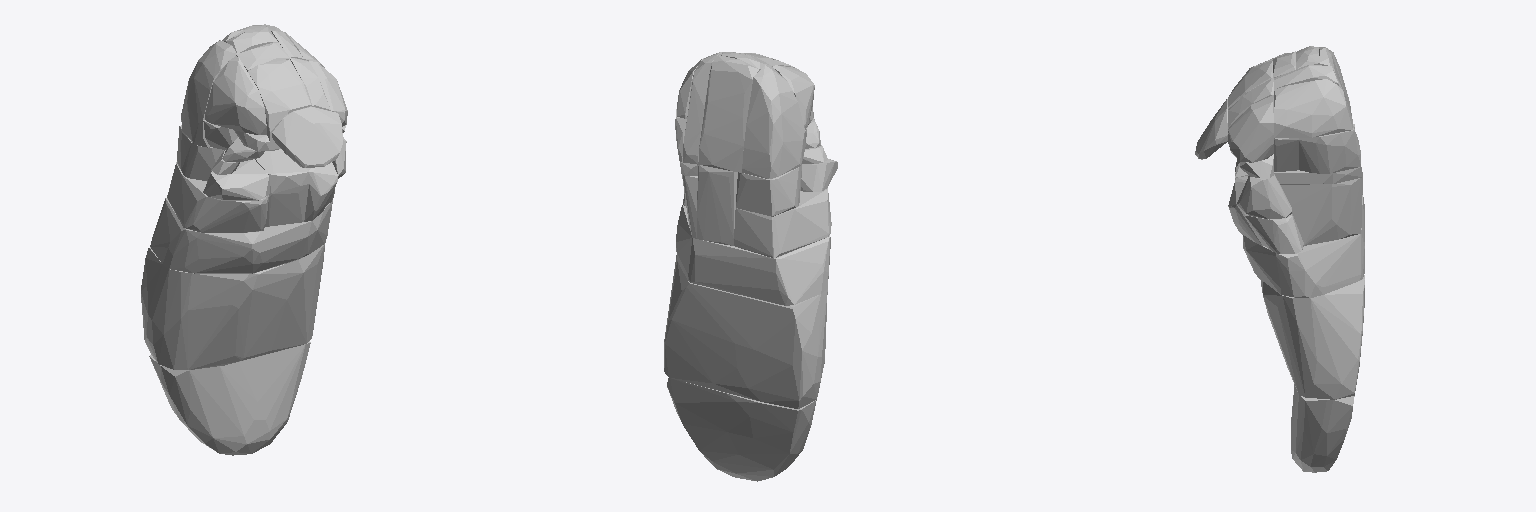
Rendered from model_TQEazKuZV1P_vhacd.obj.
The picture shows the model from 3 angles: view 1: azimuth 30°, elevation 25°; view 2: azimuth 150°, elevation 25°; view 3: azimuth 270°, elevation 25°; orthographic projection.
Parts seen in each view (by area): view 1: convex_1, convex_0, convex_2, convex_4, convex_3, convex_24, convex_6, convex_19, convex_13, convex_9, convex_5, convex_11 (+6 smaller); view 2: convex_1, convex_0, convex_2, convex_13, convex_16, convex_4, convex_6, convex_5, convex_14, convex_24, convex_9, convex_11 (+1 smaller); view 3: convex_1, convex_2, convex_11, convex_20, convex_0, convex_22, convex_26, convex_8, convex_7, convex_3, convex_12, convex_14 (+4 smaller).
Boxes of the visible parts, x1,y1,x2,y2 form: convex_1: [141, 241, 325, 369]; convex_0: [149, 341, 310, 455]; convex_2: [150, 198, 332, 273]; convex_4: [167, 162, 268, 232]; convex_3: [272, 106, 342, 167]; convex_24: [205, 56, 266, 134]; convex_6: [255, 149, 308, 226]; convex_19: [248, 59, 311, 150]; convex_13: [181, 40, 236, 147]; convex_9: [203, 159, 269, 200]; convex_5: [177, 125, 223, 181]; convex_11: [304, 162, 337, 221]; convex_1: [664, 255, 827, 408]; convex_0: [667, 378, 816, 481]; convex_2: [676, 205, 830, 305]; convex_13: [742, 65, 804, 178]; convex_16: [698, 55, 758, 172]; convex_4: [734, 188, 831, 257]; convex_6: [697, 165, 737, 245]; convex_5: [736, 165, 801, 216]; convex_14: [683, 52, 735, 164]; convex_24: [773, 65, 814, 129]; convex_9: [801, 159, 837, 191]; convex_11: [682, 175, 697, 238]; convex_1: [1260, 275, 1364, 399]; convex_2: [1243, 195, 1364, 297]; convex_11: [1228, 176, 1362, 245]; convex_20: [1274, 79, 1352, 137]; convex_0: [1291, 384, 1354, 472]; convex_22: [1228, 95, 1273, 162]; convex_26: [1299, 128, 1360, 173]; convex_8: [1237, 174, 1291, 219]; convex_7: [1245, 214, 1303, 253]; convex_3: [1195, 99, 1227, 159]; convex_12: [1274, 167, 1362, 184]; convex_14: [1274, 65, 1354, 129].
Size of the model in its own units: 0.0947 by 0.2397 by 0.0879.